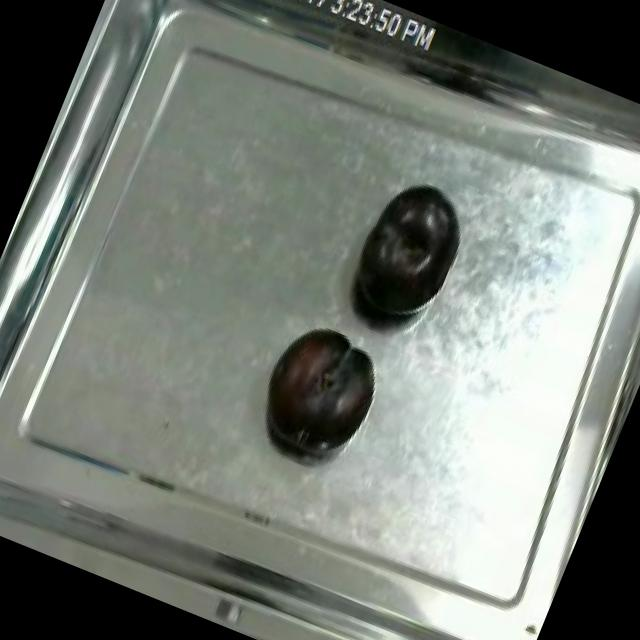Fruit: (332, 163, 477, 341), (244, 310, 392, 464)
